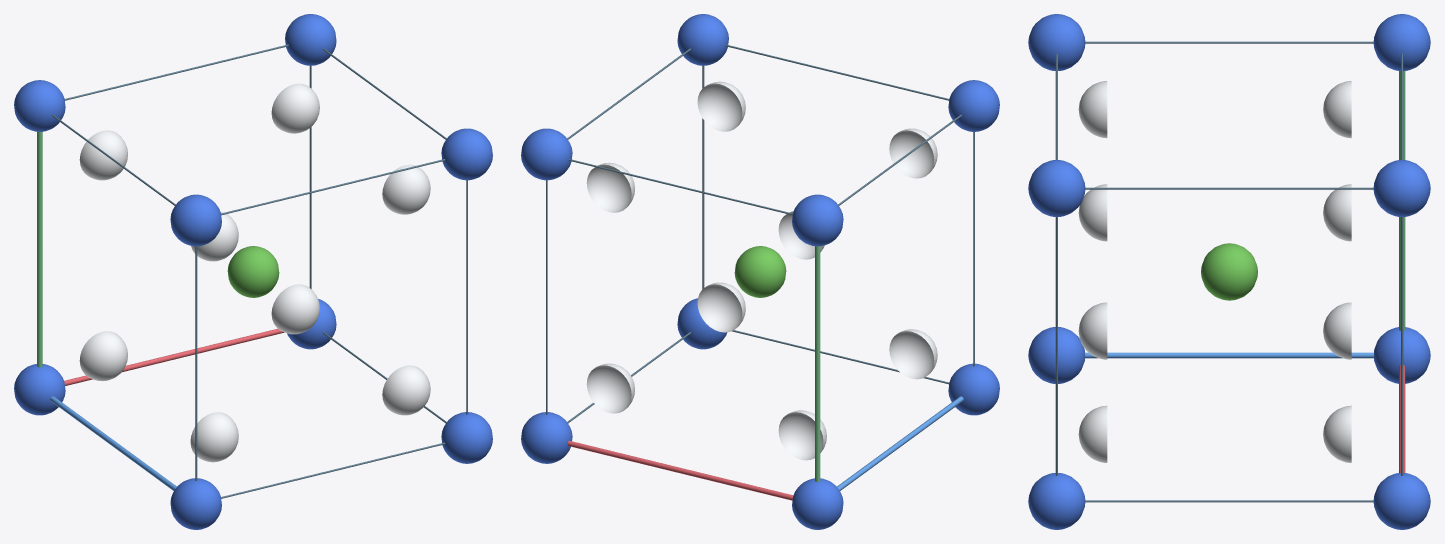
File: chat-salammoniac.glb
The picture shows the model from 3 angles, left to right: view 1: azimuth 30°, elevation 25°; view 2: azimuth 150°, elevation 25°; view 3: azimuth 270°, elevation 25°; orthographic projection. The views are drawn at different scales.
Visible parts, largest first — view 1: N · N · 1 (×8), H · H · 0.5 (×8), Ô mạng và các trục a, b, c, Cl · Cl · 1; view 2: N · N · 1 (×8), H · H · 0.5 (×8), Ô mạng và các trục a, b, c, Cl · Cl · 1; view 3: N · N · 1 (×8), H · H · 0.5 (×8), Ô mạng và các trục a, b, c, Cl · Cl · 1.
Boxes of the visible parts, x1,y1,x2,y2 form: N · N · 1 (×8): [14, 14, 492, 529]; H · H · 0.5 (×8): [79, 83, 430, 462]; Ô mạng và các trục a, b, c: [37, 44, 467, 498]; Cl · Cl · 1: [227, 246, 279, 297]; N · N · 1 (×8): [521, 14, 999, 529]; H · H · 0.5 (×8): [586, 81, 937, 460]; Ô mạng và các trục a, b, c: [546, 44, 974, 500]; Cl · Cl · 1: [734, 246, 786, 297]; N · N · 1 (×8): [1028, 14, 1430, 529]; H · H · 0.5 (×8): [1078, 81, 1351, 462]; Ô mạng và các trục a, b, c: [1055, 41, 1405, 502]; Cl · Cl · 1: [1201, 243, 1257, 300].
Size of the model in its own units: 4.5 by 4.5 by 4.5.
